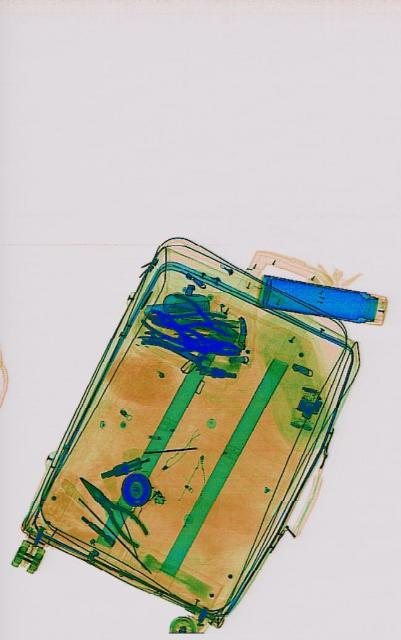Pliers: (162, 288, 241, 348)
Wrench: (141, 324, 210, 374)
